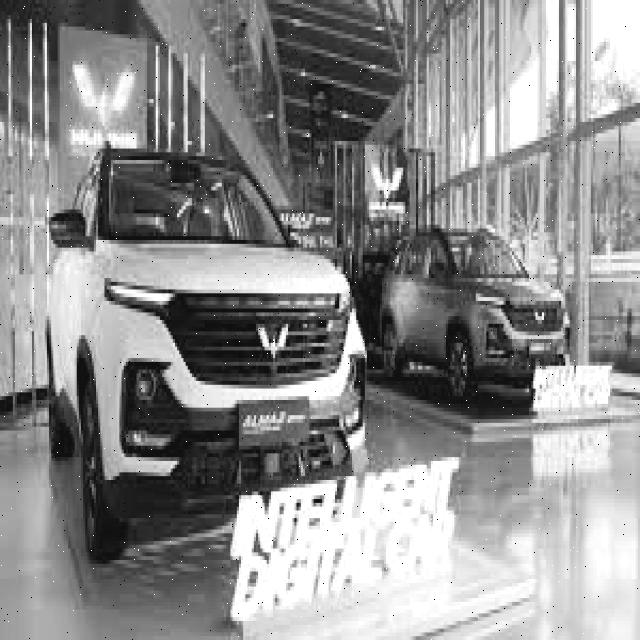Car: (42, 145, 370, 563)
